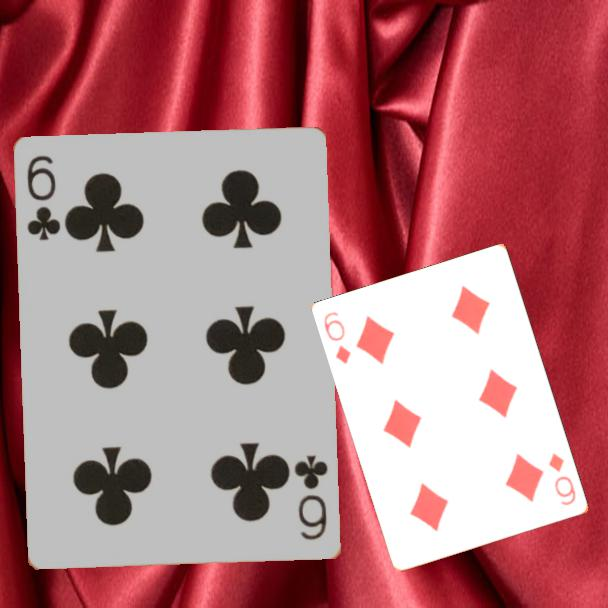c06: (292, 452, 331, 543), (24, 152, 63, 243)
d06: (545, 450, 579, 509), (321, 308, 354, 367)
